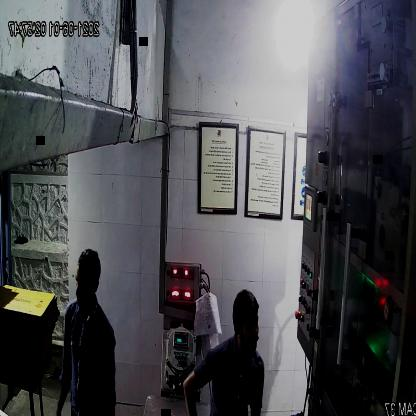no_goggles: (232, 316, 263, 336)
